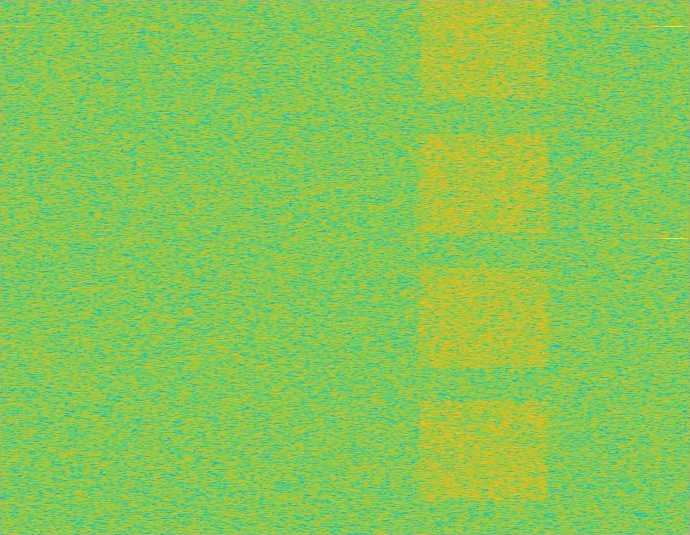5G: (415, 0, 553, 534)
Radar: (668, 0, 682, 534)
